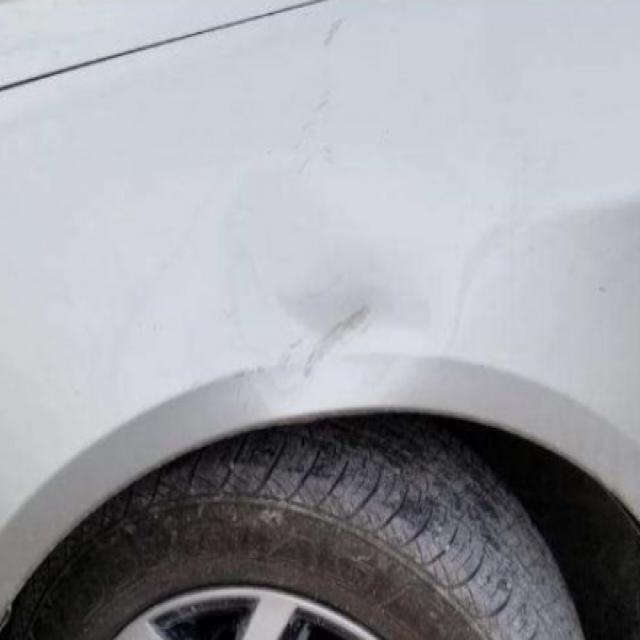dents: (259, 284, 424, 402)
